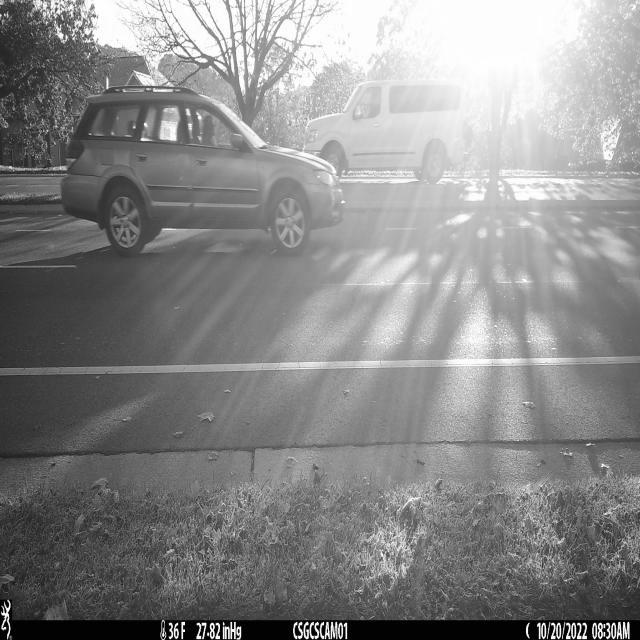SUV: (59, 85, 344, 257)
Van: (300, 81, 471, 184)
